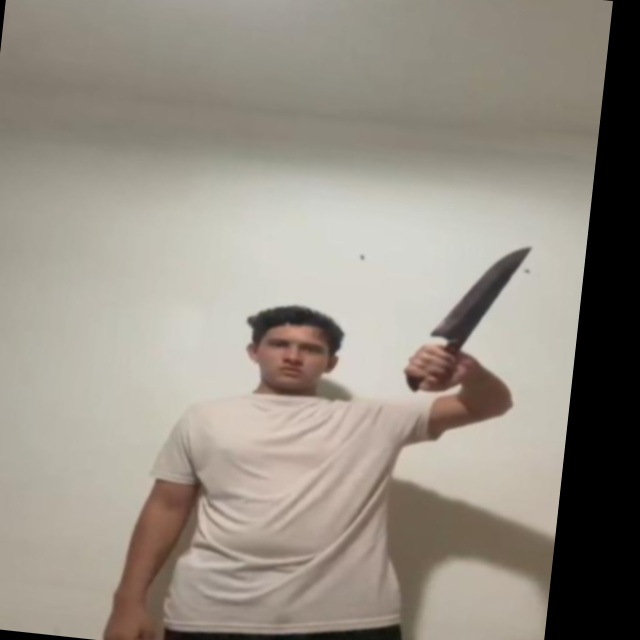Sharp-Object: (432, 235, 535, 346)
